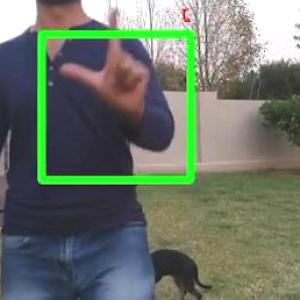land_hand: (60, 8, 152, 115)
